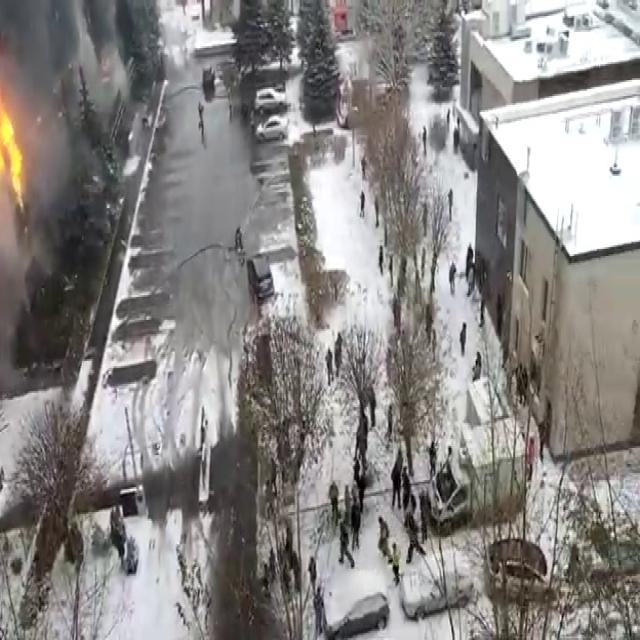Fire: (0, 51, 29, 218)
Smoke: (0, 1, 124, 392)
